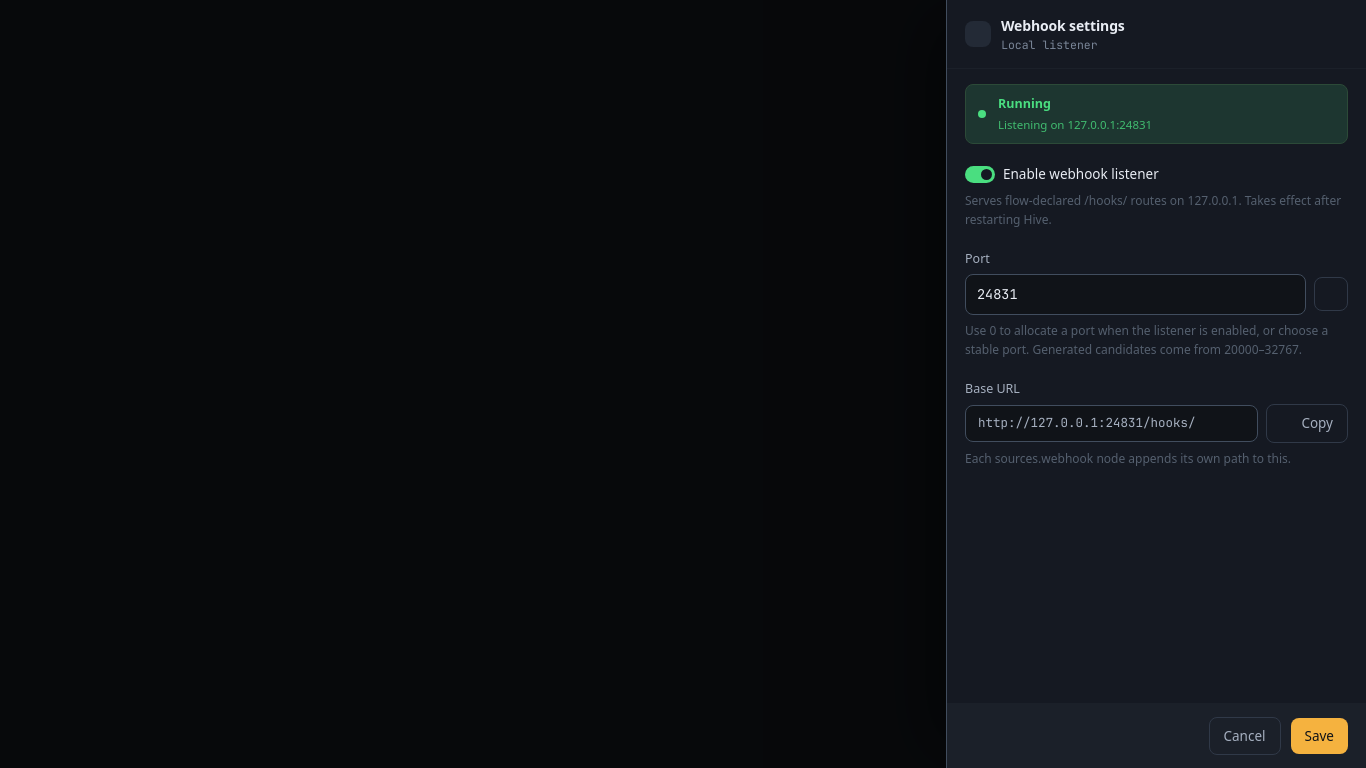
Test: WebhookIntegrationDrawer › keeps the drawer open and reports a rejected save
Click the button with test id "webhook-settings-save".
click(1319, 736)  # box [1290,718,1348,754]
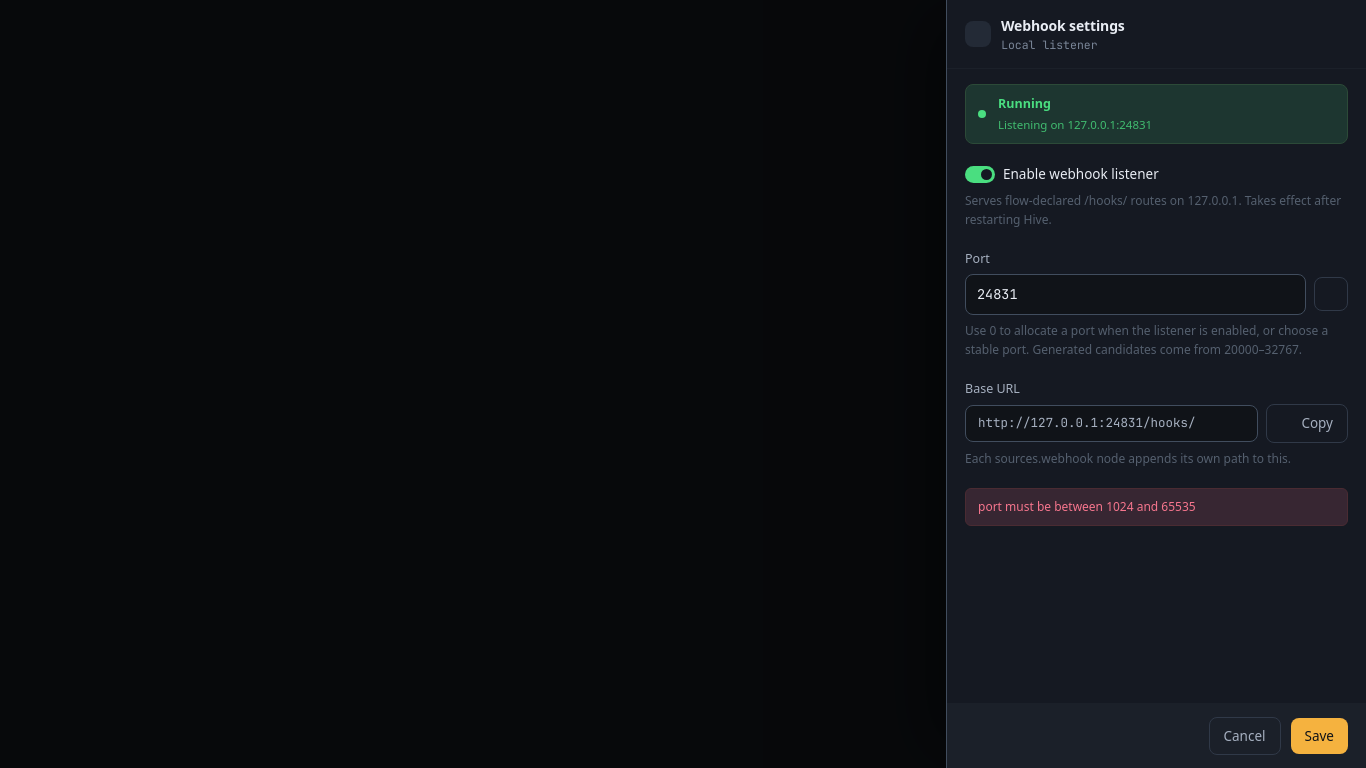
Expected: the message with test id "webhook-settings-error" reads "port must be between 1024 and 65535", [978,498,1196,515]
